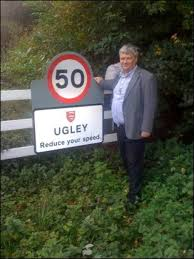Speed_limit_50km: (47, 51, 91, 104)
